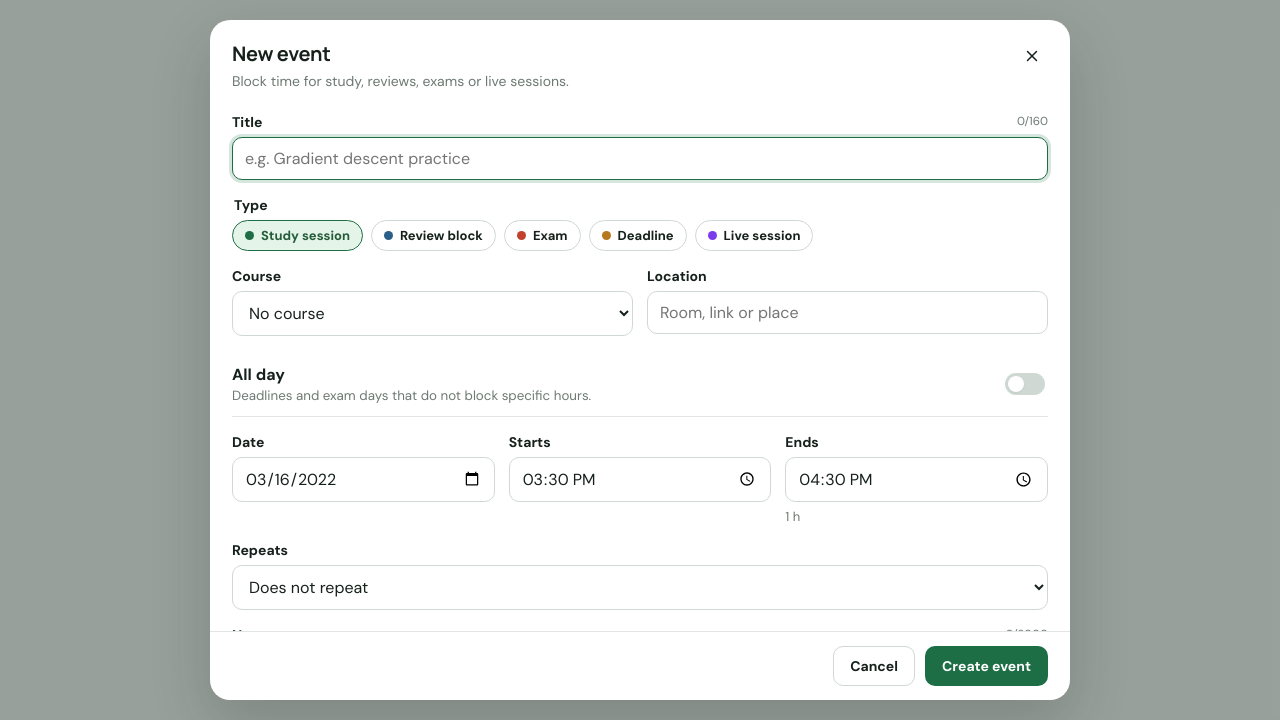
Test: EventModal › only lets instructors announce live sessions
The image size is (1280, 720).
Type "Office hours" into the field labelled "Title 0/160" at (640, 158), box [232, 137, 1048, 180]
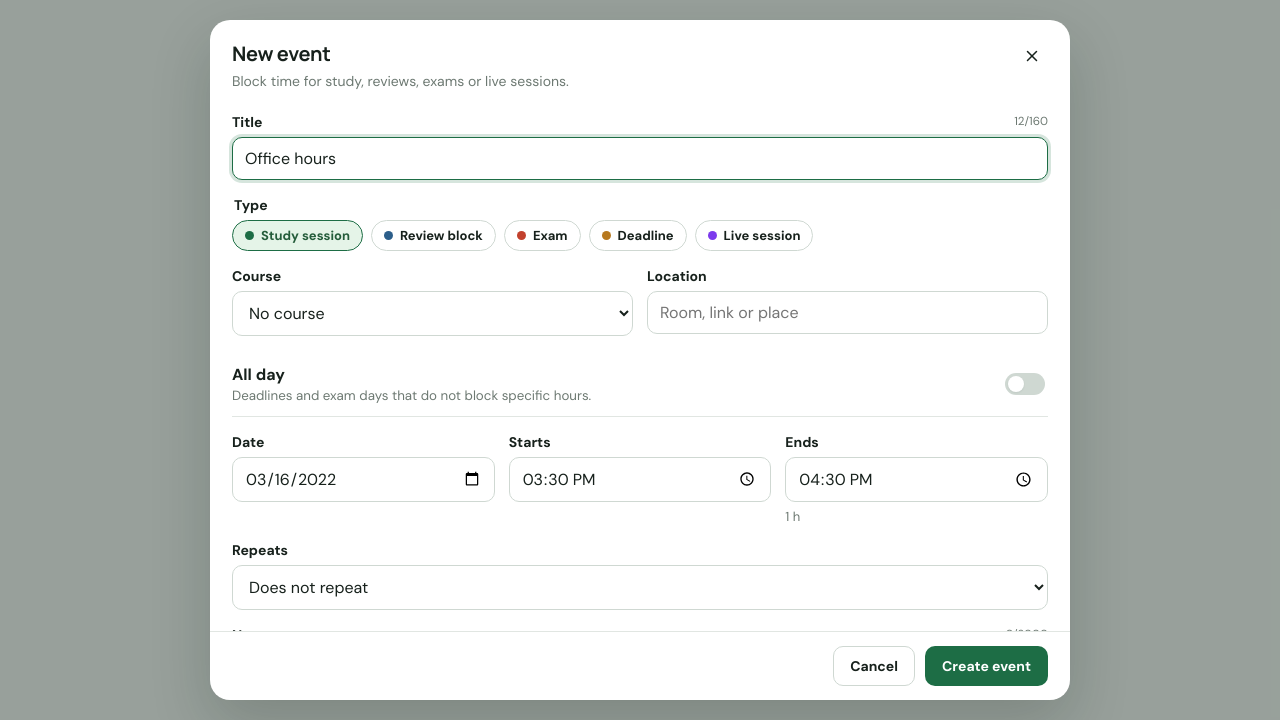
Click the radio button labelled "Live session" at (754, 235), box [695, 220, 813, 251]
(page scrolled)
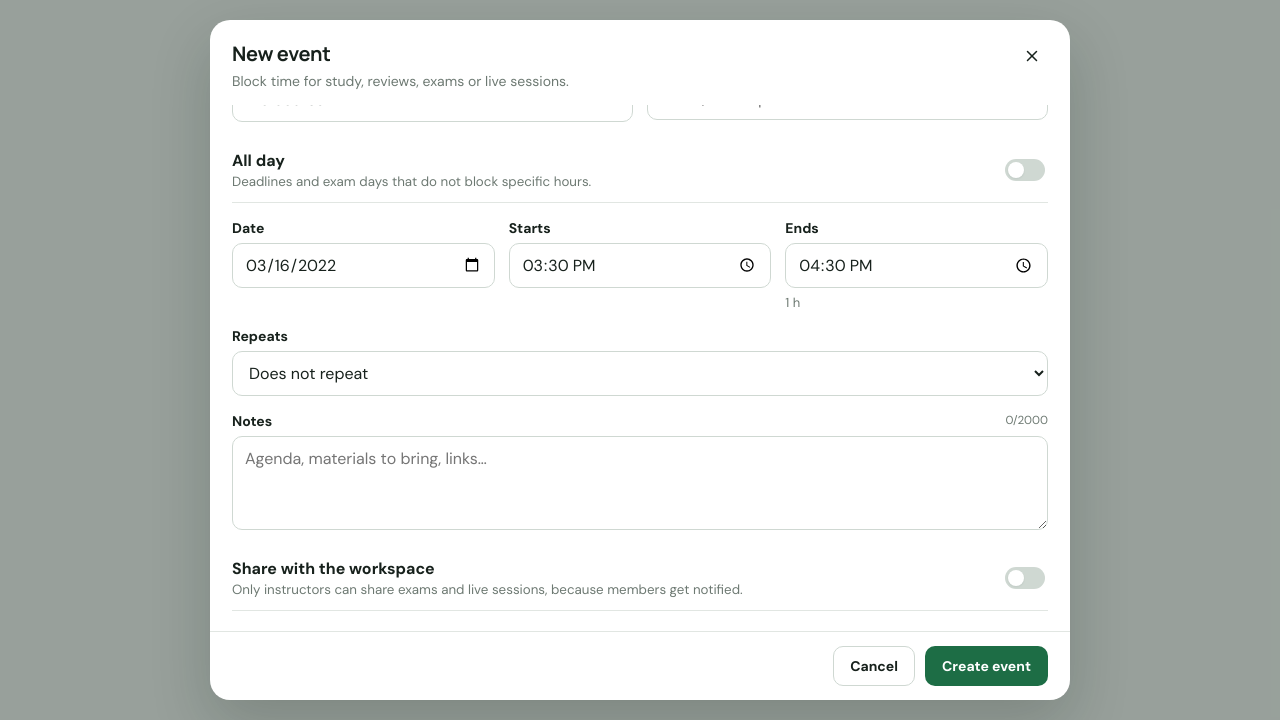
Click the switch labelled "Share with the workspace" at (1025, 578), box [1005, 567, 1045, 589]
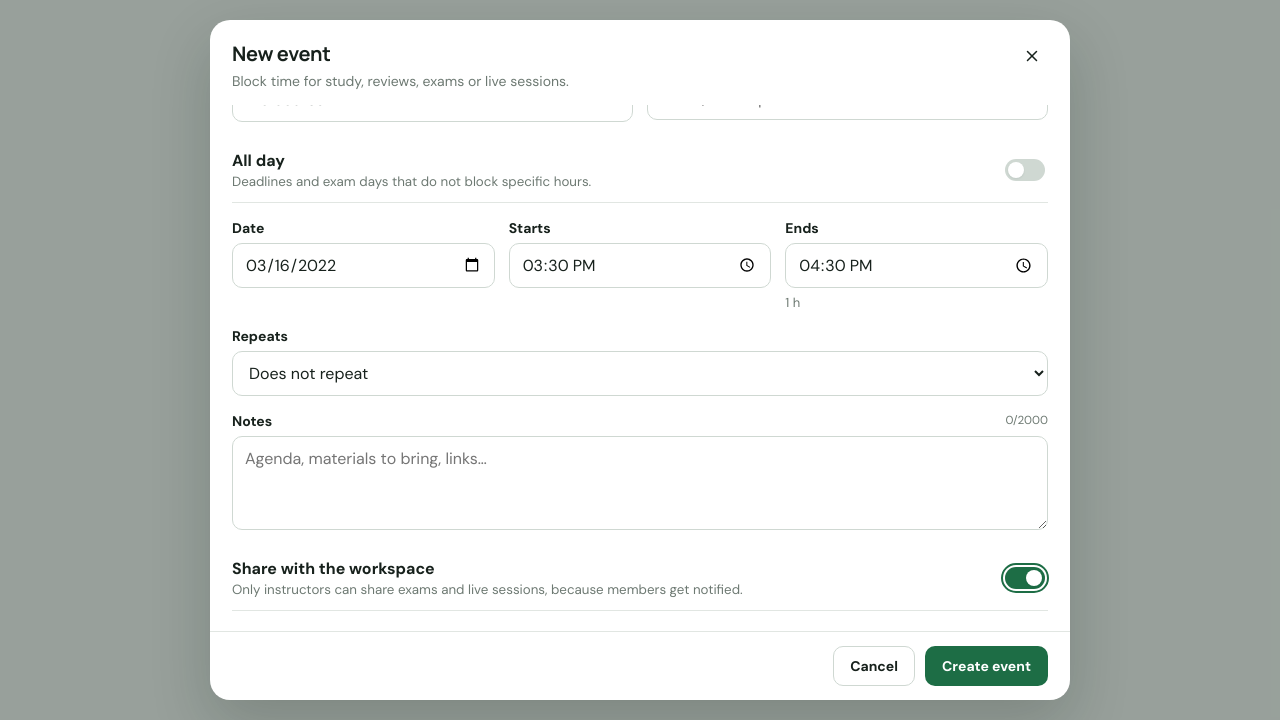
Click the button "Create event" at (986, 666), box [925, 646, 1048, 686]
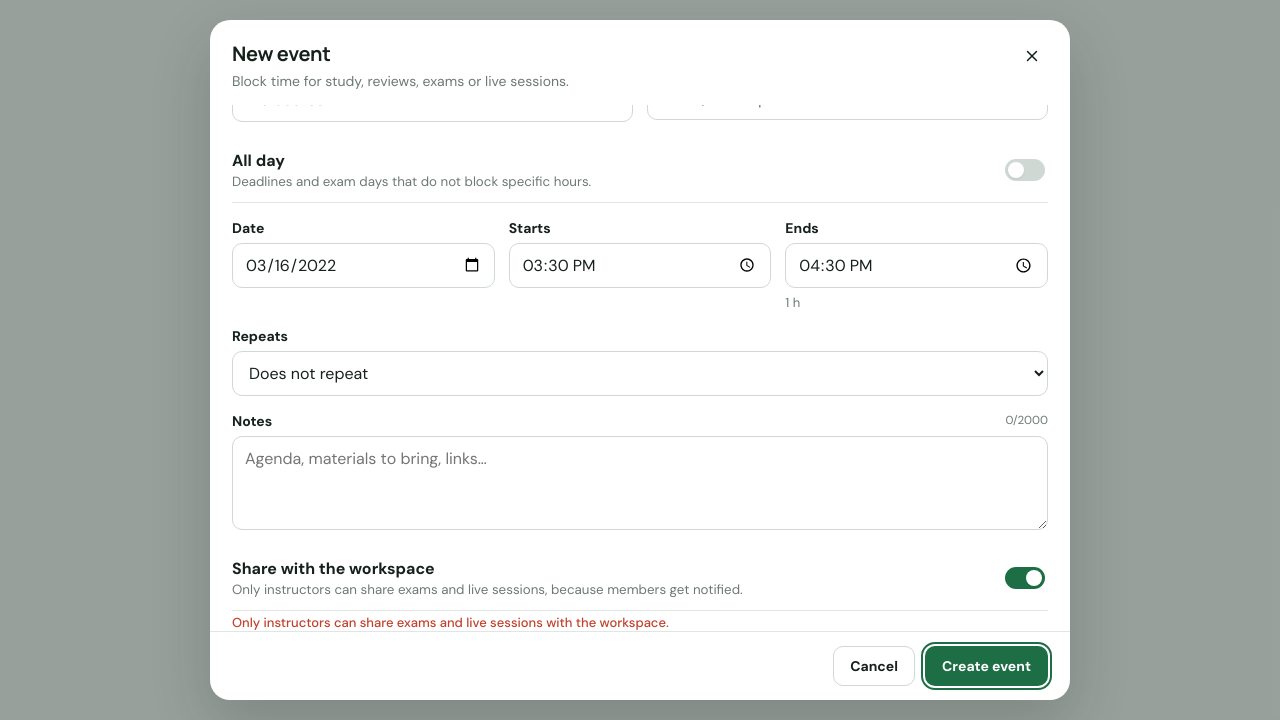
Expected: the text "Only instructors can share exams and live sessions with the workspace." is shown, [232, 614, 669, 631]
